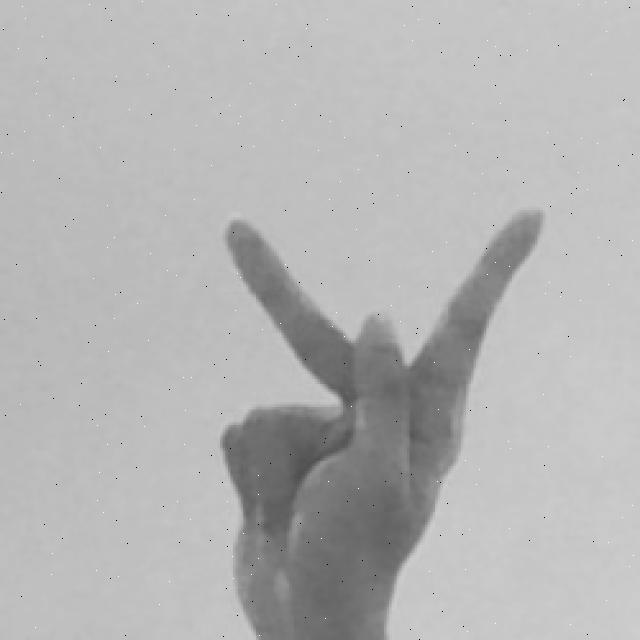K: (219, 205, 552, 640)
